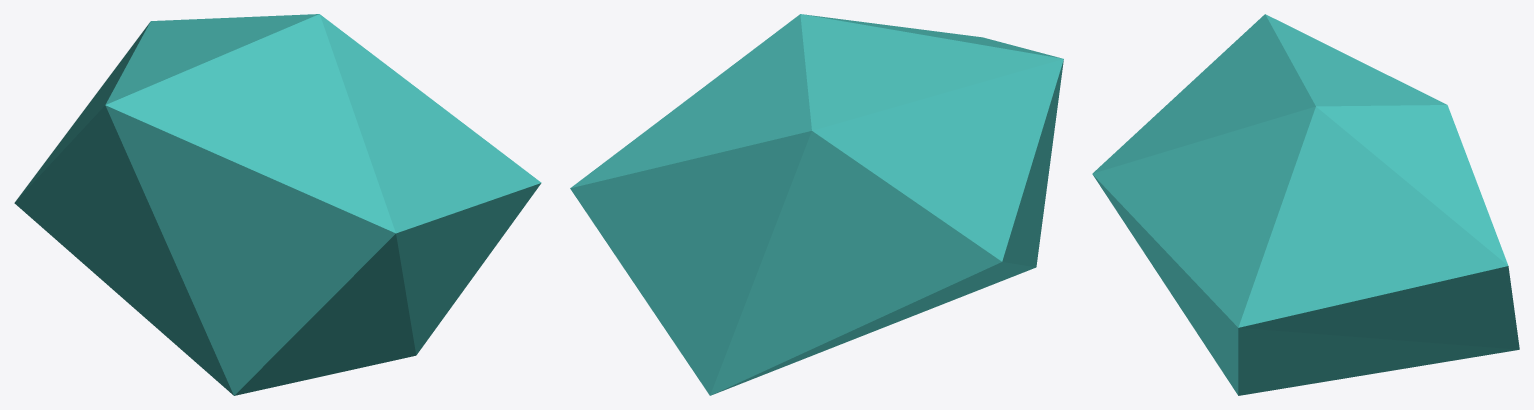
The model's file is Pink-Blue_Planet_Asteroid.fbx.
3 renders of one model, left to right at view 1: azimuth 30°, elevation 25°; view 2: azimuth 150°, elevation 25°; view 3: azimuth 270°, elevation 25°, orthographic. The views are drawn at different scales.
Visible parts, largest first — view 1: Pink-Blue_Planet_Asteroid; view 2: Pink-Blue_Planet_Asteroid; view 3: Pink-Blue_Planet_Asteroid.
Part boxes in pixels (x1,y1,x2,y2): Pink-Blue_Planet_Asteroid: [14, 14, 541, 395]; Pink-Blue_Planet_Asteroid: [570, 14, 1063, 395]; Pink-Blue_Planet_Asteroid: [1092, 14, 1519, 395].
Size of the model in its own units: 903 by 637 by 918.
